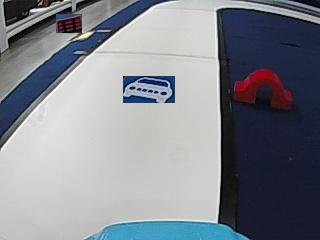bridge: (234, 68, 294, 109)
